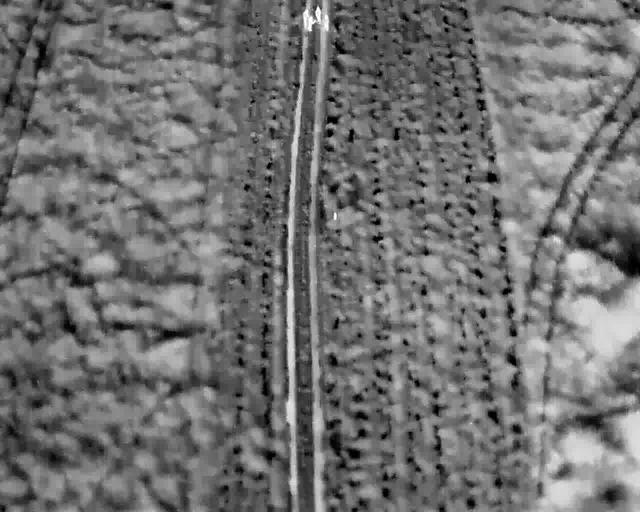person: (301, 8, 312, 29), (322, 11, 331, 31), (314, 5, 323, 25), (307, 14, 316, 33)
